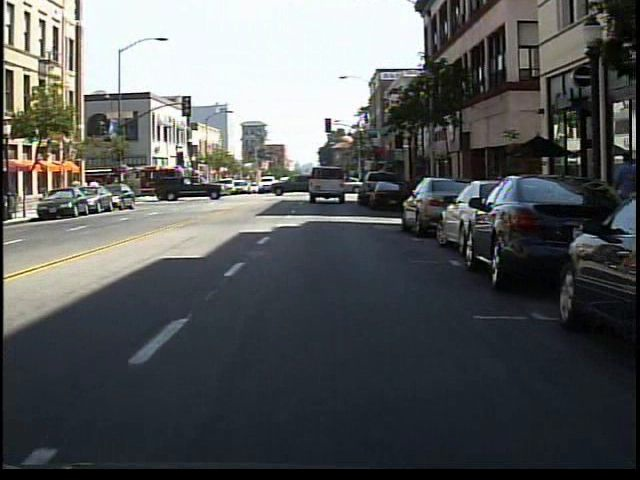person: (607, 147, 636, 251)
